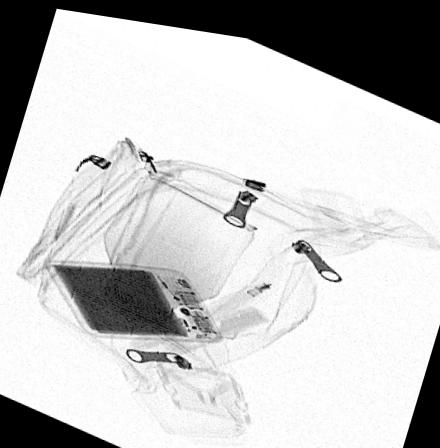Powerbank: (41, 255, 223, 336)
